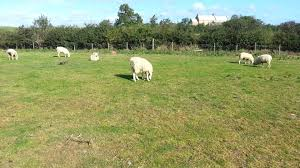sheep: (128, 55, 154, 83), (236, 52, 253, 66), (255, 53, 272, 67), (56, 46, 70, 57), (7, 48, 18, 61), (90, 52, 100, 62)
